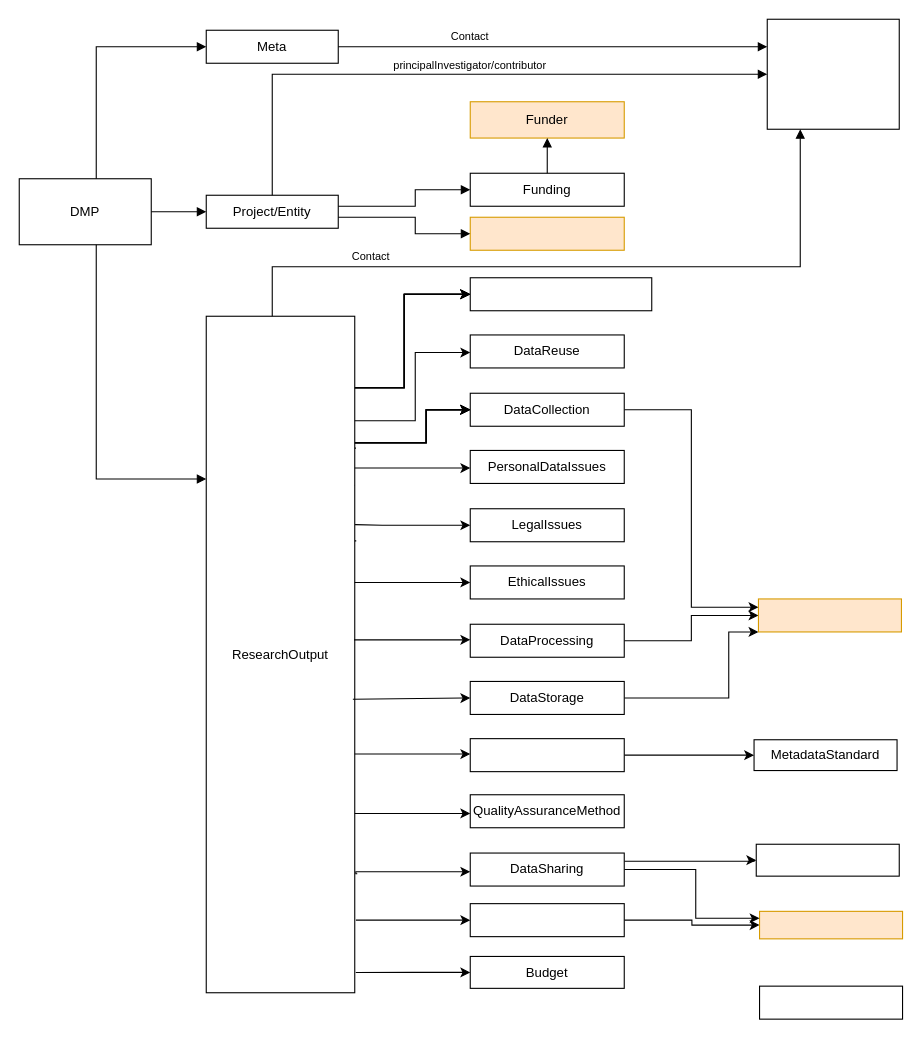
The diagram is 922 pixels wide and 1038 high, and some of its shapes have lost their labels. The shapes that lost their labels are listed below. From the top down, each one's centre as x and y in pixels, then its label:
the point at 832,73: Person
the point at 546,233: Partner
the point at 560,294: ResearchOutputDescription
the point at 829,615: TechnicalResource
the point at 546,755: DocumentationQuality
the point at 827,859: Distribution
the point at 546,920: DataPreservation
the point at 830,924: Host
the point at 830,1002: SpecificData
